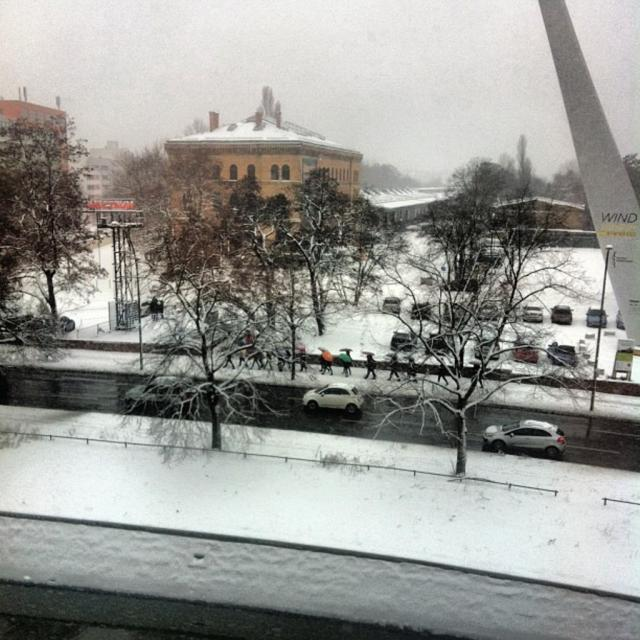car: (483, 418, 582, 468), (299, 380, 367, 416)
